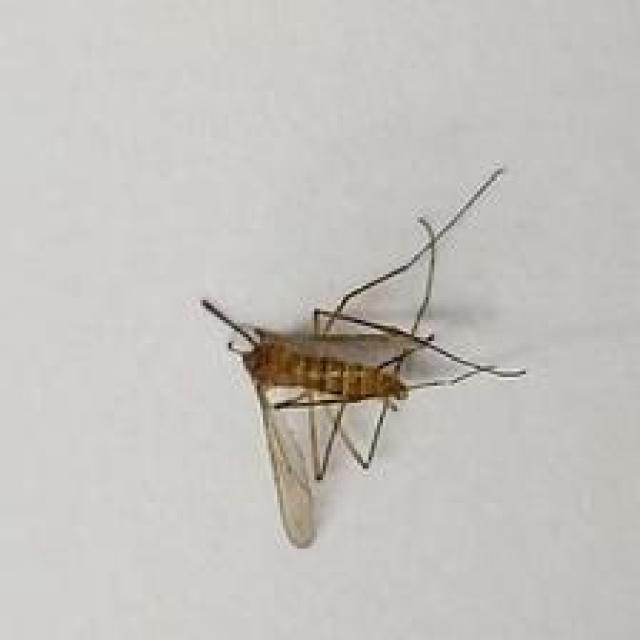Culex: (199, 164, 527, 550)
